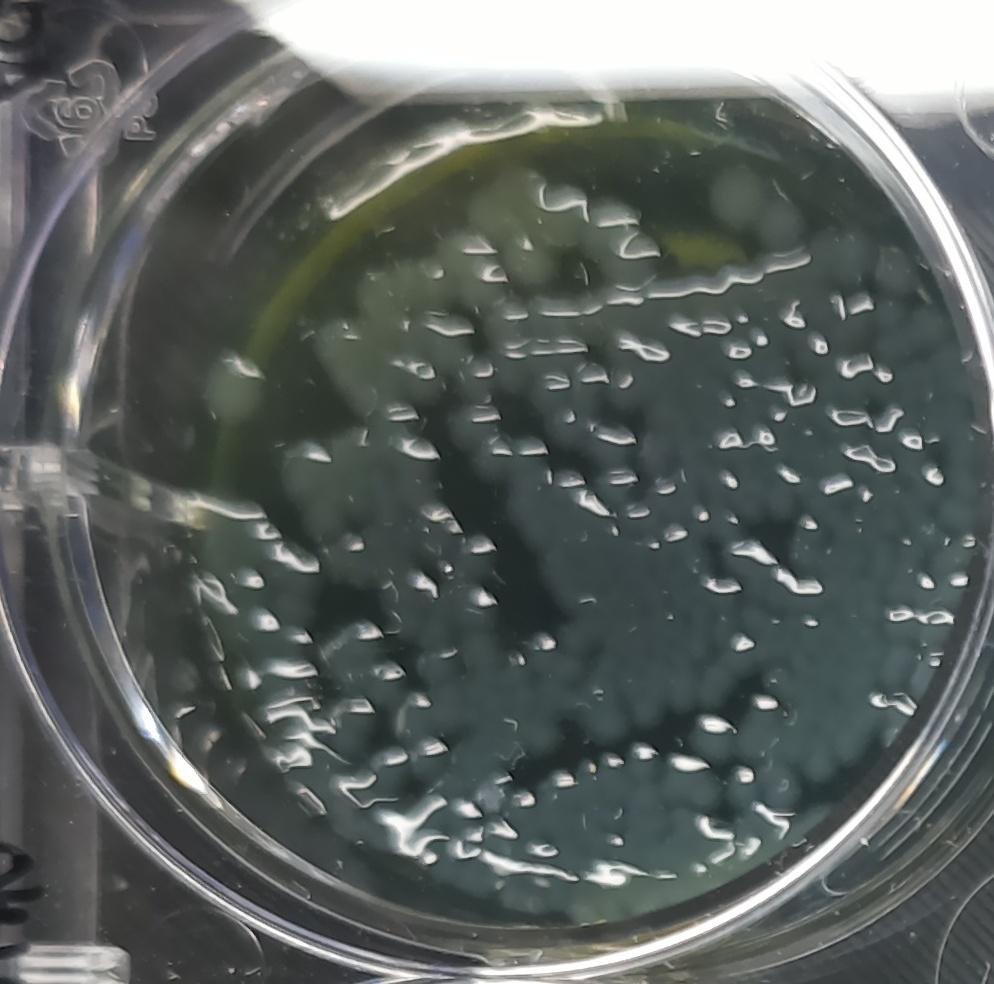vangil: (319, 615, 405, 711), (186, 341, 272, 427)
